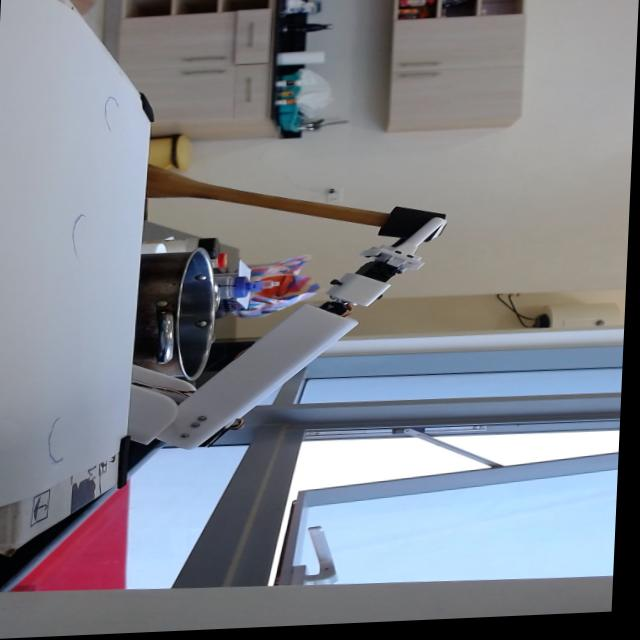cooking_pot: (135, 249, 234, 384)
spatula: (138, 159, 451, 245)
